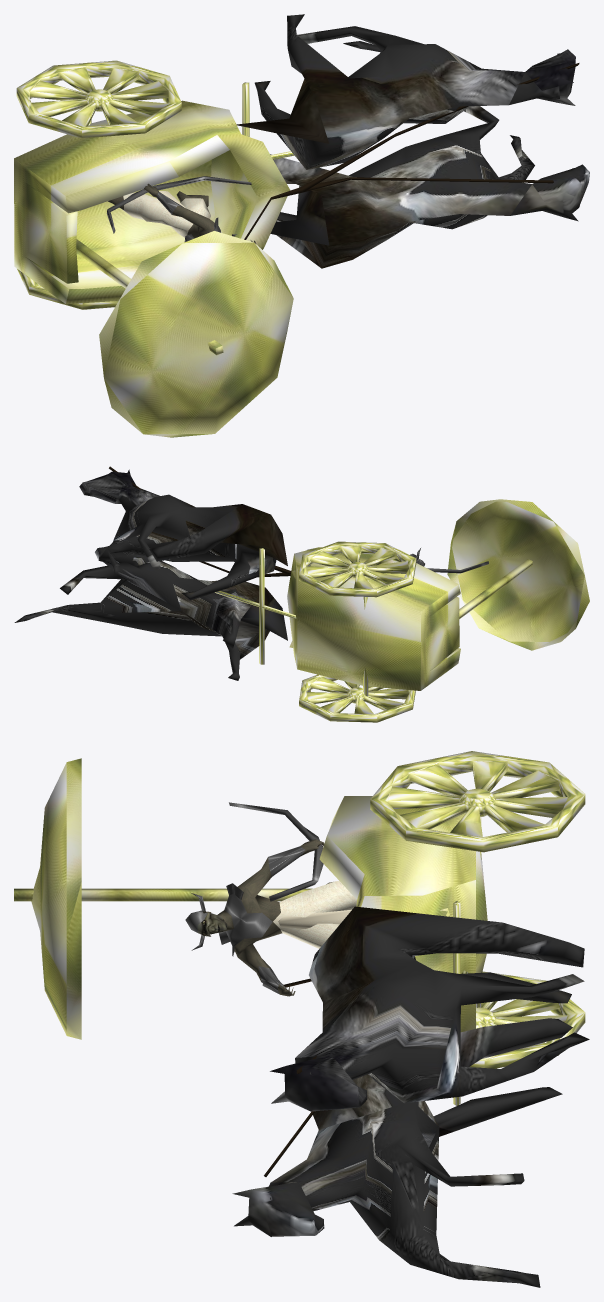
File: chariot_000104.obj
3 views of the same model, one above another, from view 1: azimuth 30°, elevation 25°; view 2: azimuth 150°, elevation 25°; view 3: azimuth 270°, elevation 25° (orthographic). The views are drawn at different scales.
Parts seen in each view (by area): view 1: chariot_Cube.001, umbrella_Sphere, Horse.001_objHorse_0.002, Horse.000_objHorse_0.001, wheelL_Cylinder.003, A4_Circle, Cylinder_Cylinder.001, wheelR_Cylinder; view 2: chariot_Cube.001, umbrella_Sphere, Horse.001_objHorse_0.002, Horse.000_objHorse_0.001, wheelL_Cylinder.003, wheelR_Cylinder, rod_Cylinder.002; view 3: Horse.001_objHorse_0.002, Horse.000_objHorse_0.001, wheelL_Cylinder.003, chariot_Cube.001, umbrella_Sphere, A4_Circle, wheelR_Cylinder.
Boxes of the visible parts, box(x1,y1,x2,y2) form: chariot_Cube.001: box(14, 100, 290, 304); umbrella_Sphere: box(76, 231, 293, 437); Horse.001_objHorse_0.002: box(236, 14, 575, 169); Horse.000_objHorse_0.001: box(270, 106, 589, 268); wheelL_Cylinder.003: box(16, 60, 181, 138); A4_Circle: box(107, 176, 256, 243); Cylinder_Cylinder.001: box(244, 63, 579, 239); wheelR_Cylinder: box(17, 269, 118, 309); chariot_Cube.001: box(287, 547, 460, 690); umbrella_Sphere: box(447, 499, 589, 650); Horse.001_objHorse_0.002: box(79, 469, 287, 600); Horse.000_objHorse_0.001: box(14, 546, 287, 680); wheelL_Cylinder.003: box(299, 541, 416, 597); wheelR_Cylinder: box(299, 674, 415, 722); rod_Cylinder.002: box(215, 548, 368, 695); Horse.001_objHorse_0.002: box(270, 906, 589, 1111); Horse.000_objHorse_0.001: box(232, 1018, 572, 1287); wheelL_Cylinder.003: box(370, 751, 585, 852); chariot_Cube.001: box(319, 796, 487, 1032); umbrella_Sphere: box(14, 758, 312, 1039); A4_Circle: box(185, 802, 356, 996); wheelR_Cylinder: box(469, 971, 585, 1068).
Bounding box in the file's own units: 9.95 × 3.36 × 6.47.
